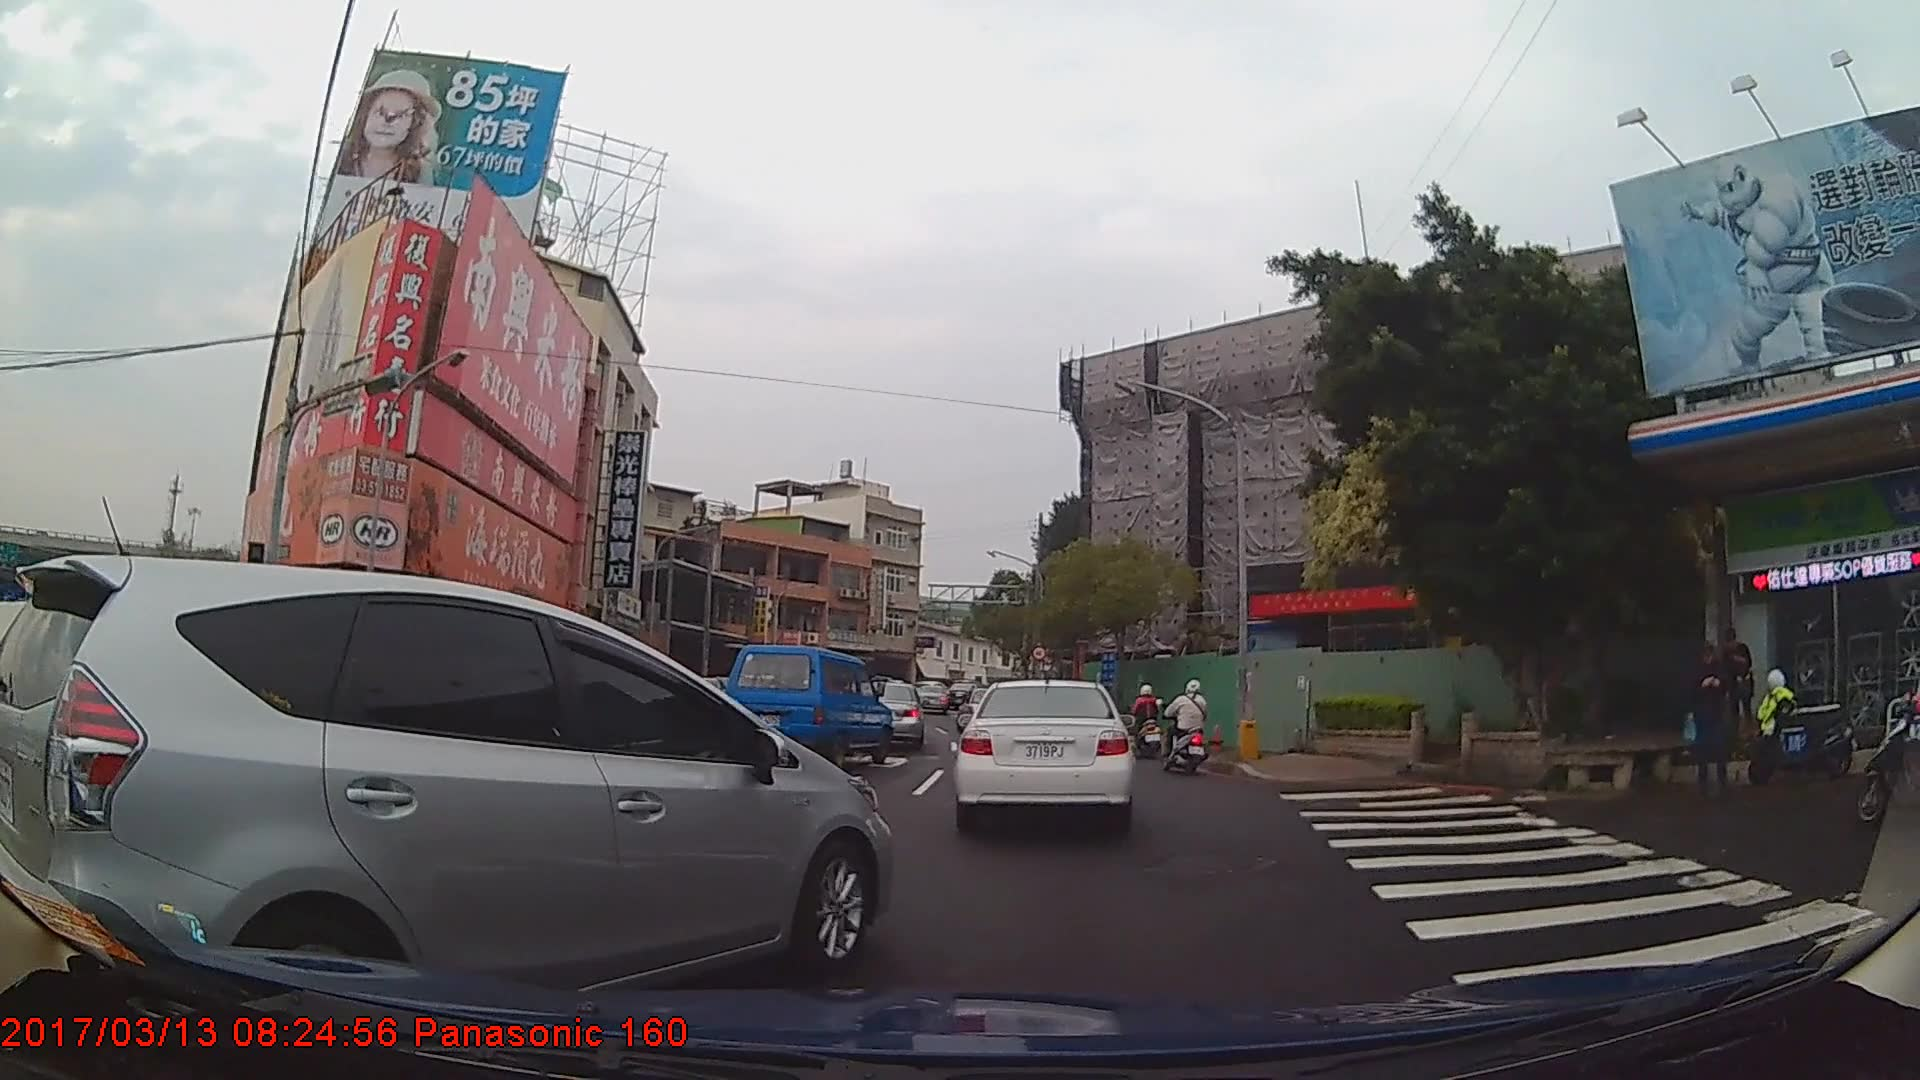pedestrian: (1688, 641, 1735, 793), (1712, 621, 1759, 752)
rider: (1169, 675, 1217, 772), (1132, 681, 1166, 758)
vehicle: (0, 555, 895, 1033), (950, 677, 1136, 836), (725, 642, 893, 771), (850, 680, 925, 750)
